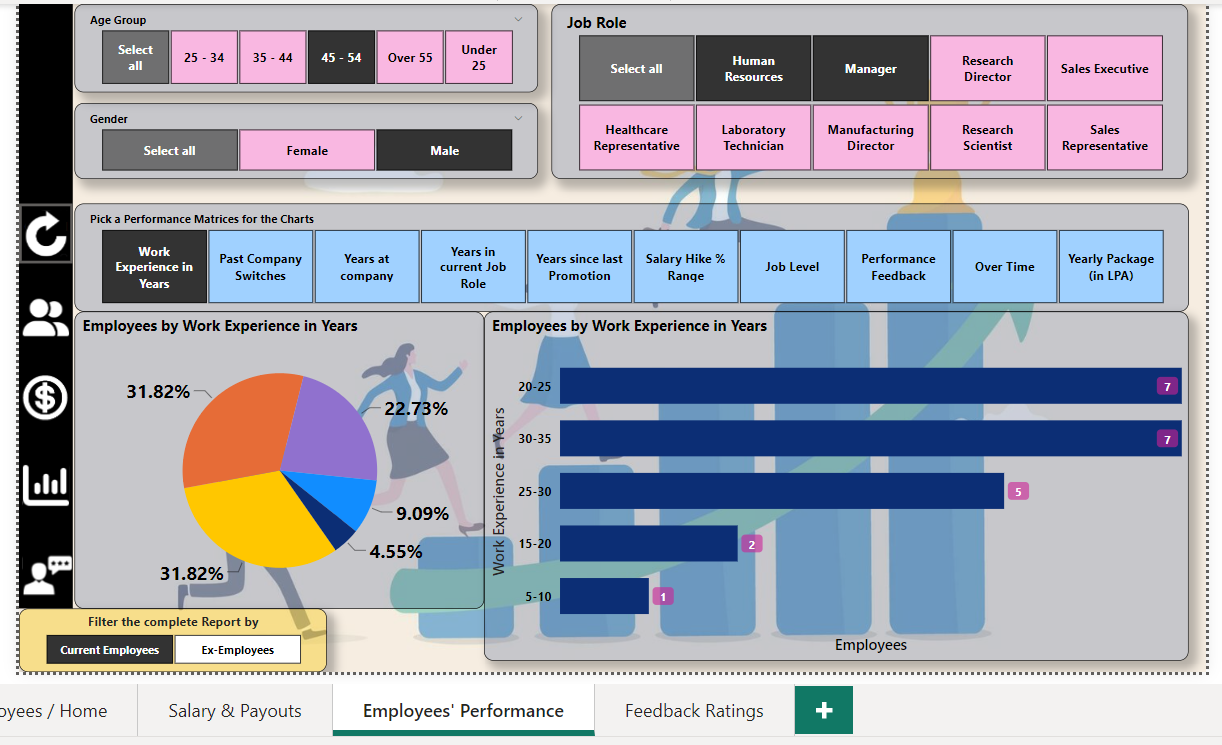

What the dashboard file says about the page in this screenshot:
{"tool":"powerbi","page":{"name":"Employees' Performance","canvas":[1280,720],"ordinal":2},"visuals":[{"type":"shape","box":[0,0,58.2,652],"z":0,"group":"g1"},{"type":"actionButton","box":[0,215.2,58.2,64.7],"z":0,"group":"g2"},{"type":"slicer","fields":{"Values":["#Parameter- Performance Matrices .#Parameter- Performance Matrices "]},"box":[58.2,215.2,1202.2,116.5],"z":0,"group":"g3"},{"type":"slicer","title":"Filter the complete Report by","fields":{"Values":["Employees.attrition label"]},"box":[0,651.7,331.7,68.3],"z":0},{"type":"group","id":"g1","title":"Navigation Bar #group","box":[0,0,69.6,652],"z":1000},{"type":"group","id":"g2","title":"Group 6","box":[0,215.2,69.6,432],"z":1000,"group":"g1"},{"type":"actionButton","box":[0,309,58.2,58.2],"z":1000,"group":"g2"},{"type":"barChart","fields":{"Category":["Salary & Payouts.Yearly Package (in LPA) Range"],"Y":["Measures Table.#1 Total Employees"]},"box":[500,331.7,760,376.7],"z":1000,"group":"g3"},{"type":"group","id":"g3","title":"All #group","box":[58.2,0,1202.2,708.7],"z":2000},{"type":"slicer","fields":{"Values":["Employees.Age Group"]},"box":[58.3,0,500,95],"z":2000,"group":"g3"},{"type":"actionButton","box":[0,396.4,58.2,56.6],"z":2000,"group":"g2"},{"type":"slicer","fields":{"Values":["Employees.Job Role"]},"box":[573.3,0,686.7,188.3],"z":3000,"group":"g3"},{"type":"actionButton","box":[0,482.2,58.2,74.4],"z":3000,"group":"g2"},{"type":"slicer","fields":{"Values":["Employees.Gender"]},"box":[58.3,106.7,500,81.7],"z":4000,"group":"g3"},{"type":"actionButton","box":[0,585.7,69.6,61.5],"z":4000,"group":"g2"},{"type":"pieChart","fields":{"Category":["Salary & Payouts.Yearly Package (in LPA) Range"],"Y":["Measures Table.#1 Total Employees"]},"box":[58.2,331.7,441.7,320.4],"z":5000,"group":"g3"}]}

Visuals, with their boxes in screenshot pixels (x1, y1, x2, y2):
shape: crop(13, 0, 68, 611)
actionButton: crop(13, 199, 68, 260)
slicer - #Parameter- Performance Matrices .#Parameter- Performance Matrices : crop(68, 199, 1199, 309)
"Filter the complete Report by" slicer: crop(13, 610, 325, 675)
"Navigation Bar #group" group: crop(13, 0, 78, 611)
"Group 6" group: crop(13, 199, 78, 606)
actionButton: crop(13, 288, 68, 343)
barChart - Salary & Payouts.Yearly Package (in LPA) Range x Measures Table.#1 Total Employees: crop(483, 309, 1199, 664)
"All #group" group: crop(68, 0, 1199, 664)
slicer - Employees.Age Group: crop(68, 0, 538, 86)
actionButton: crop(13, 370, 68, 423)
slicer - Employees.Job Role: crop(552, 0, 1199, 174)
actionButton: crop(13, 451, 68, 521)
slicer - Employees.Gender: crop(68, 97, 538, 174)
actionButton: crop(13, 548, 78, 606)
pieChart - Salary & Payouts.Yearly Package (in LPA) Range x Measures Table.#1 Total Employees: crop(68, 309, 483, 611)
